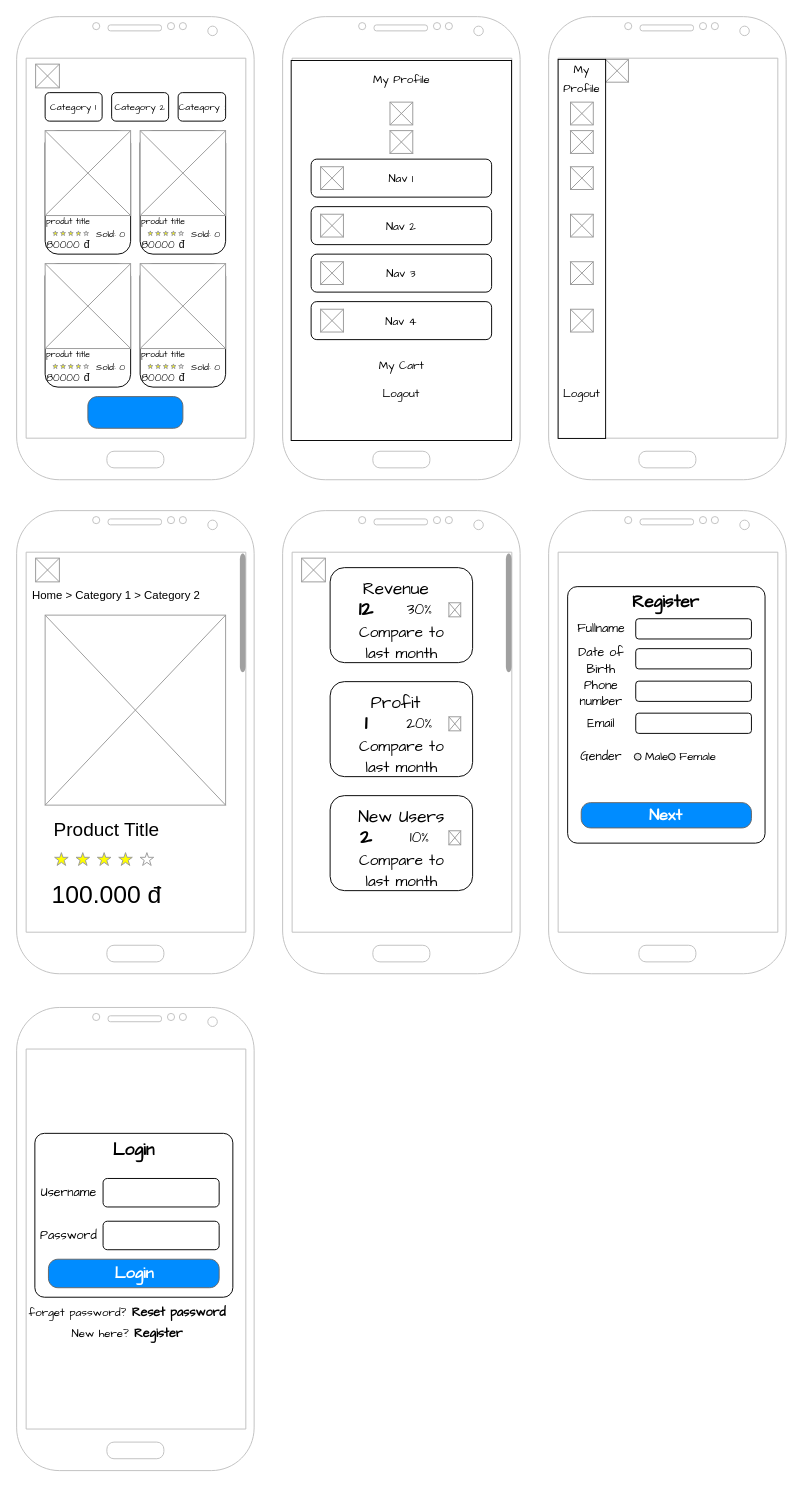
Image size: 803x1488. Some labels were removed from this diagram. The shapes that lost their labels are listed below. From the top down, each one's box as (x1, y1, x2, y2) in pixels, then its label:
(87, 396, 183, 428): More
(548, 510, 786, 974): Remember anything? Login forget password? Reset password
